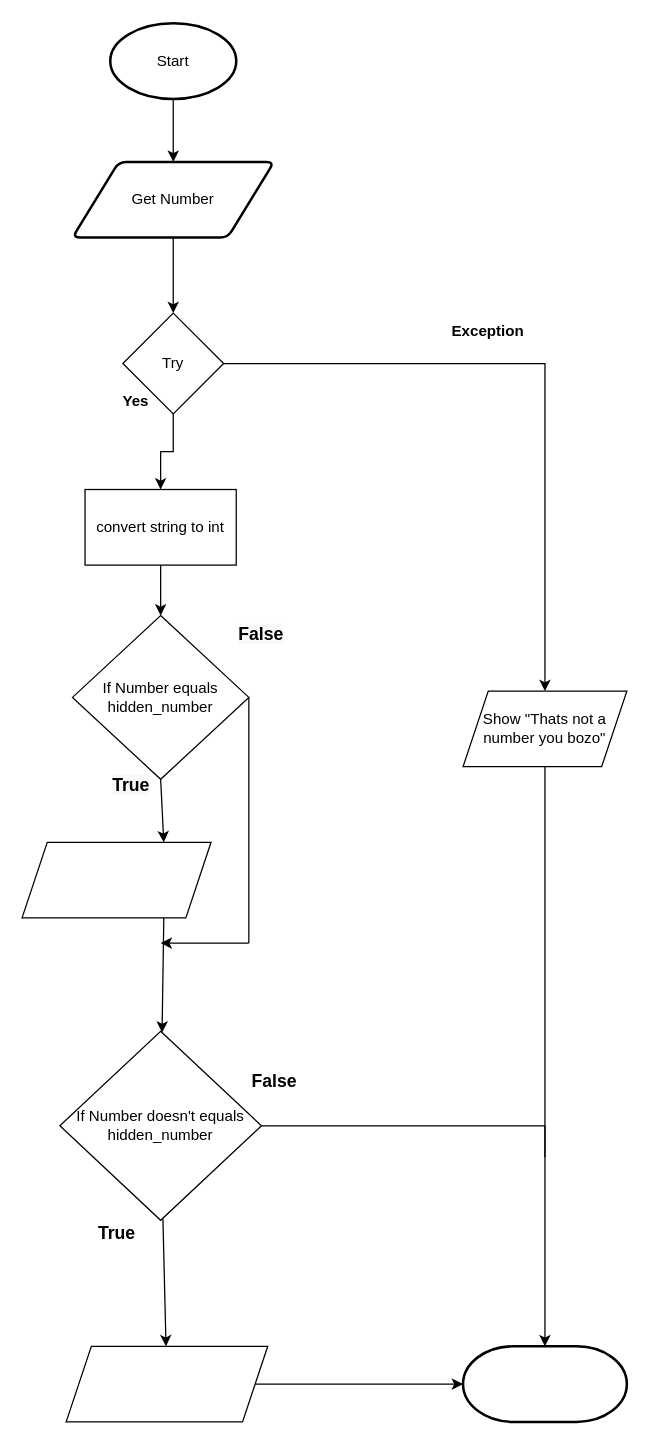
Image size: 650x1444. Some labels were removed from this diagram. The shapes that lost their labels are listed below. From the top down, each one's box as (x1, y1, x2, y2) in pixels, then its label:
(21, 841, 211, 918): show they guessed right
(65, 1345, 268, 1422): show they guessed wrong
(461, 1344, 627, 1423): Stop
